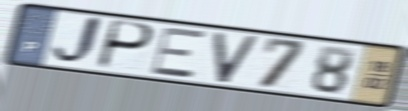7: (259, 36, 311, 92)
8: (309, 45, 356, 96)
E: (148, 26, 208, 80)
J: (49, 13, 106, 68)
P: (94, 18, 157, 72)
V: (212, 30, 262, 86)
